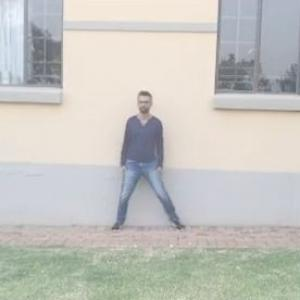follow: (121, 88, 164, 236)
